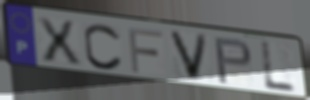C: (82, 22, 125, 73)
F: (126, 26, 165, 75)
L: (259, 39, 299, 94)
P: (212, 36, 255, 86)
V: (166, 28, 211, 84)
X: (34, 16, 85, 67)
